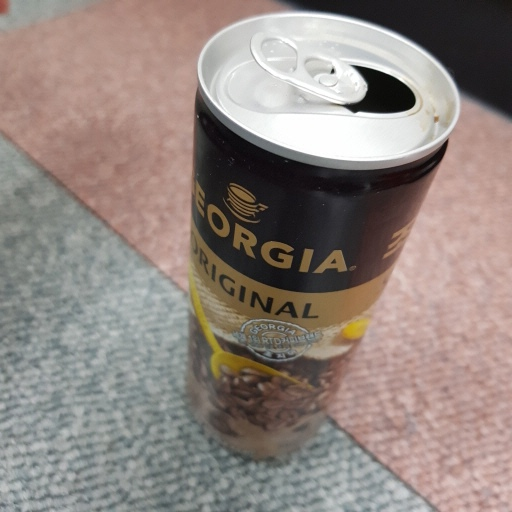Metal_0: (189, 10, 461, 468)
